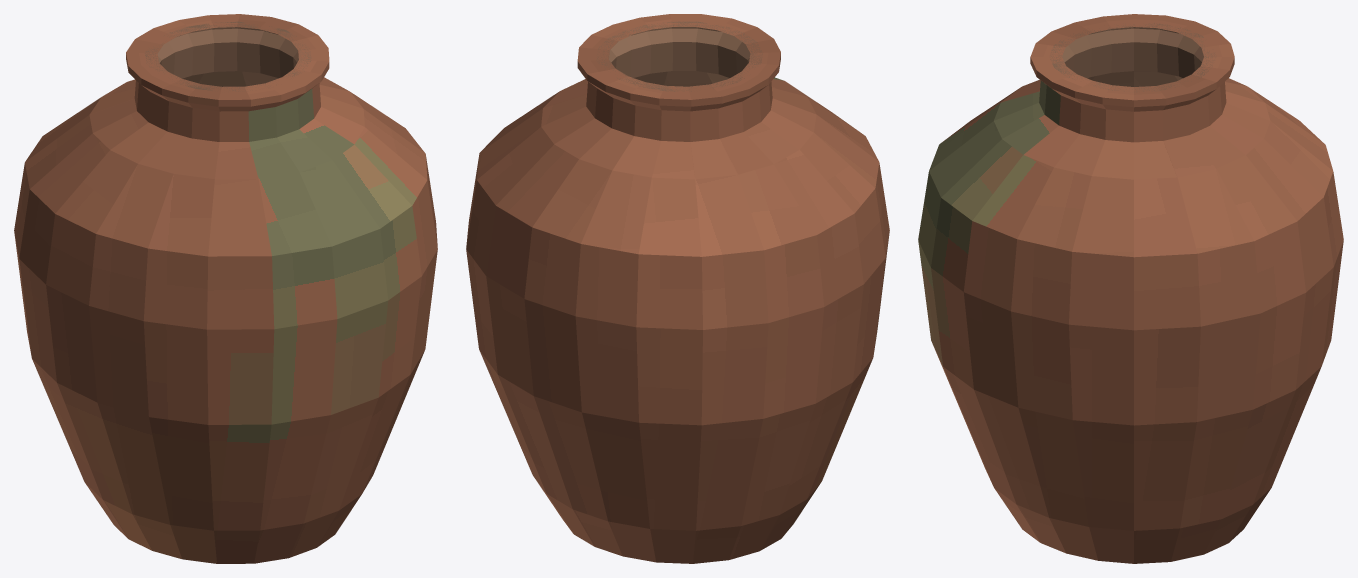
Rendered from antique-shigaraki-jar.glb.
3 views of the same model, side by side, from view 1: azimuth 30°, elevation 25°; view 2: azimuth 150°, elevation 25°; view 3: azimuth 270°, elevation 25° (orthographic).
Visible parts, largest first — view 1: antique-shigaraki-jar/vessel-3, antique-shigaraki-jar/vessel-5, antique-shigaraki-jar/vessel-2, antique-shigaraki-jar/vessel-4, antique-shigaraki-jar/vessel-6, antique-shigaraki-jar/vessel-1, antique-shigaraki-jar/vessel-7, antique-shigaraki-jar/vessel-11, antique-shigaraki-jar/vessel-15, antique-shigaraki-jar/vessel-10, antique-shigaraki-jar/vessel-14, antique-shigaraki-jar/vessel-9 (+3 smaller); view 2: antique-shigaraki-jar/vessel-3, antique-shigaraki-jar/vessel-5, antique-shigaraki-jar/vessel-2, antique-shigaraki-jar/vessel-4, antique-shigaraki-jar/vessel-6, antique-shigaraki-jar/vessel-1, antique-shigaraki-jar/vessel-7, antique-shigaraki-jar/vessel-11, antique-shigaraki-jar/vessel-15, antique-shigaraki-jar/vessel-10, antique-shigaraki-jar/vessel-14, antique-shigaraki-jar/vessel-9 (+3 smaller); view 3: antique-shigaraki-jar/vessel-3, antique-shigaraki-jar/vessel-5, antique-shigaraki-jar/vessel-2, antique-shigaraki-jar/vessel-4, antique-shigaraki-jar/vessel-6, antique-shigaraki-jar/vessel-1, antique-shigaraki-jar/vessel-7, antique-shigaraki-jar/vessel-11, antique-shigaraki-jar/vessel-15, antique-shigaraki-jar/vessel-10, antique-shigaraki-jar/vessel-14, antique-shigaraki-jar/vessel-9 (+3 smaller).
Part boxes in pixels (x1=…): antique-shigaraki-jar/vessel-3: x1=14, y1=233, x2=437, y2=424; antique-shigaraki-jar/vessel-5: x1=25, y1=92, x2=427, y2=256; antique-shigaraki-jar/vessel-2: x1=32, y1=351, x2=424, y2=530; antique-shigaraki-jar/vessel-4: x1=14, y1=154, x2=437, y2=329; antique-shigaraki-jar/vessel-6: x1=89, y1=77, x2=364, y2=179; antique-shigaraki-jar/vessel-1: x1=85, y1=483, x2=361, y2=563; antique-shigaraki-jar/vessel-7: x1=134, y1=80, x2=320, y2=141; antique-shigaraki-jar/vessel-11: x1=139, y1=19, x2=316, y2=94; antique-shigaraki-jar/vessel-15: x1=159, y1=42, x2=297, y2=78; antique-shigaraki-jar/vessel-10: x1=126, y1=14, x2=329, y2=99; antique-shigaraki-jar/vessel-14: x1=157, y1=28, x2=298, y2=62; antique-shigaraki-jar/vessel-9: x1=126, y1=53, x2=329, y2=106; antique-shigaraki-jar/vessel-3: x1=466, y1=235, x2=889, y2=425; antique-shigaraki-jar/vessel-5: x1=477, y1=84, x2=879, y2=256; antique-shigaraki-jar/vessel-2: x1=479, y1=350, x2=872, y2=530; antique-shigaraki-jar/vessel-4: x1=466, y1=155, x2=889, y2=329; antique-shigaraki-jar/vessel-6: x1=541, y1=77, x2=816, y2=179; antique-shigaraki-jar/vessel-1: x1=534, y1=477, x2=820, y2=563; antique-shigaraki-jar/vessel-7: x1=586, y1=81, x2=772, y2=141; antique-shigaraki-jar/vessel-11: x1=590, y1=19, x2=768, y2=94; antique-shigaraki-jar/vessel-15: x1=611, y1=42, x2=748, y2=77; antique-shigaraki-jar/vessel-10: x1=577, y1=14, x2=780, y2=99; antique-shigaraki-jar/vessel-14: x1=609, y1=28, x2=750, y2=62; antique-shigaraki-jar/vessel-9: x1=577, y1=53, x2=780, y2=106; antique-shigaraki-jar/vessel-3: x1=918, y1=241, x2=1343, y2=425; antique-shigaraki-jar/vessel-5: x1=929, y1=87, x2=1333, y2=257; antique-shigaraki-jar/vessel-2: x1=933, y1=345, x2=1321, y2=530; antique-shigaraki-jar/vessel-4: x1=918, y1=172, x2=1343, y2=330; antique-shigaraki-jar/vessel-6: x1=994, y1=78, x2=1270, y2=179; antique-shigaraki-jar/vessel-1: x1=994, y1=487, x2=1271, y2=563; antique-shigaraki-jar/vessel-7: x1=1039, y1=80, x2=1226, y2=142; antique-shigaraki-jar/vessel-11: x1=1043, y1=19, x2=1221, y2=94; antique-shigaraki-jar/vessel-15: x1=1064, y1=42, x2=1201, y2=78; antique-shigaraki-jar/vessel-10: x1=1030, y1=14, x2=1234, y2=100; antique-shigaraki-jar/vessel-14: x1=1062, y1=28, x2=1203, y2=62; antique-shigaraki-jar/vessel-9: x1=1030, y1=57, x2=1234, y2=107.
Bounding box in the file's own units: 0.625 × 0.7408 × 0.625.
3 materials, 3 textured.
